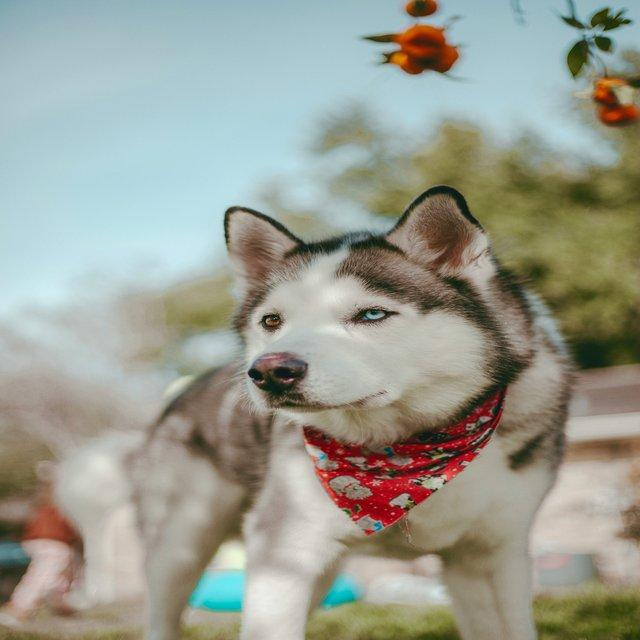husky: (115, 177, 588, 640)
